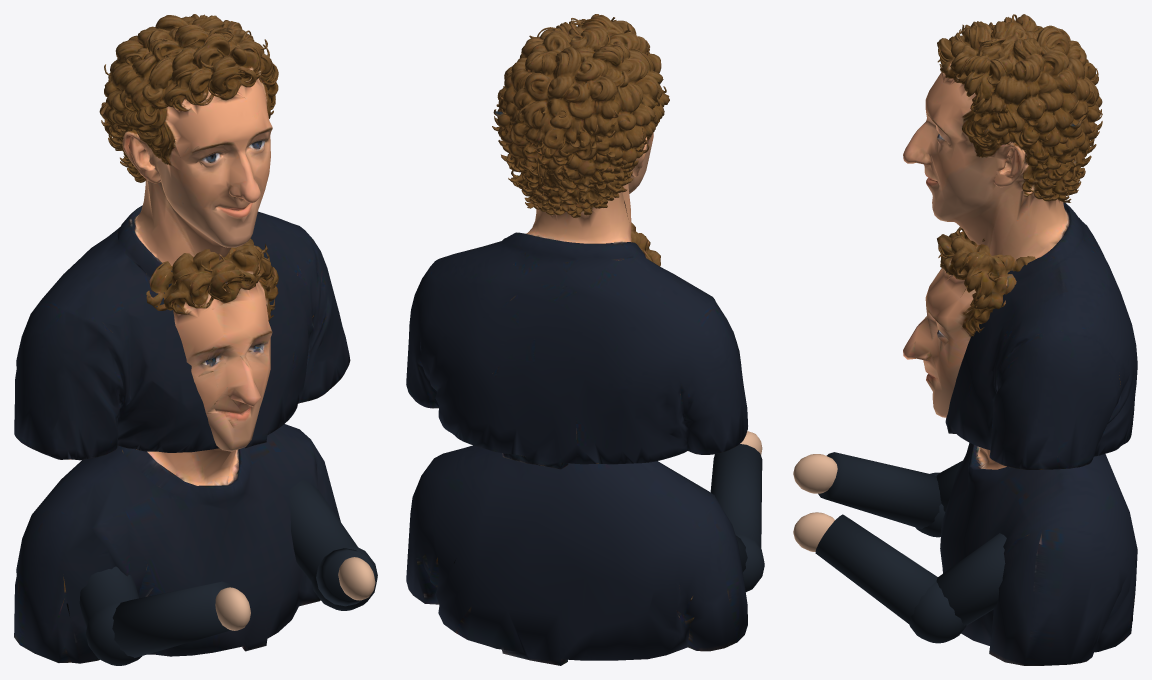
Rendered from mark-runtime.glb.
3 renders of one model, left to right at view 1: azimuth 30°, elevation 25°; view 2: azimuth 150°, elevation 25°; view 3: azimuth 270°, elevation 25°, orthographic. The views are drawn at different scales.
Visible parts, largest first — view 1: mark / portrait sculpture, mark / driving sculpture, mark / driving sleeves, mark / driving hands; view 2: mark / portrait sculpture, mark / driving sculpture, mark / driving sleeves; view 3: mark / portrait sculpture, mark / driving sculpture, mark / driving sleeves, mark / driving hands.
Part boxes in pixels (bbox=[...]): mark / portrait sculpture: bbox=[14, 14, 350, 460]; mark / driving sculpture: bbox=[14, 238, 340, 663]; mark / driving sleeves: bbox=[79, 479, 377, 665]; mark / driving hands: bbox=[215, 557, 375, 630]; mark / portrait sculpture: bbox=[406, 14, 747, 469]; mark / driving sculpture: bbox=[406, 222, 747, 665]; mark / driving sleeves: bbox=[710, 444, 764, 591]; mark / portrait sculpture: bbox=[903, 14, 1137, 469]; mark / driving sculpture: bbox=[903, 227, 1137, 665]; mark / driving sleeves: bbox=[815, 452, 1006, 643]; mark / driving hands: bbox=[793, 454, 837, 551].
Bounding box in the file's own units: 0.8482 × 1.5 × 0.7966.
3 materials, 1 textured.
